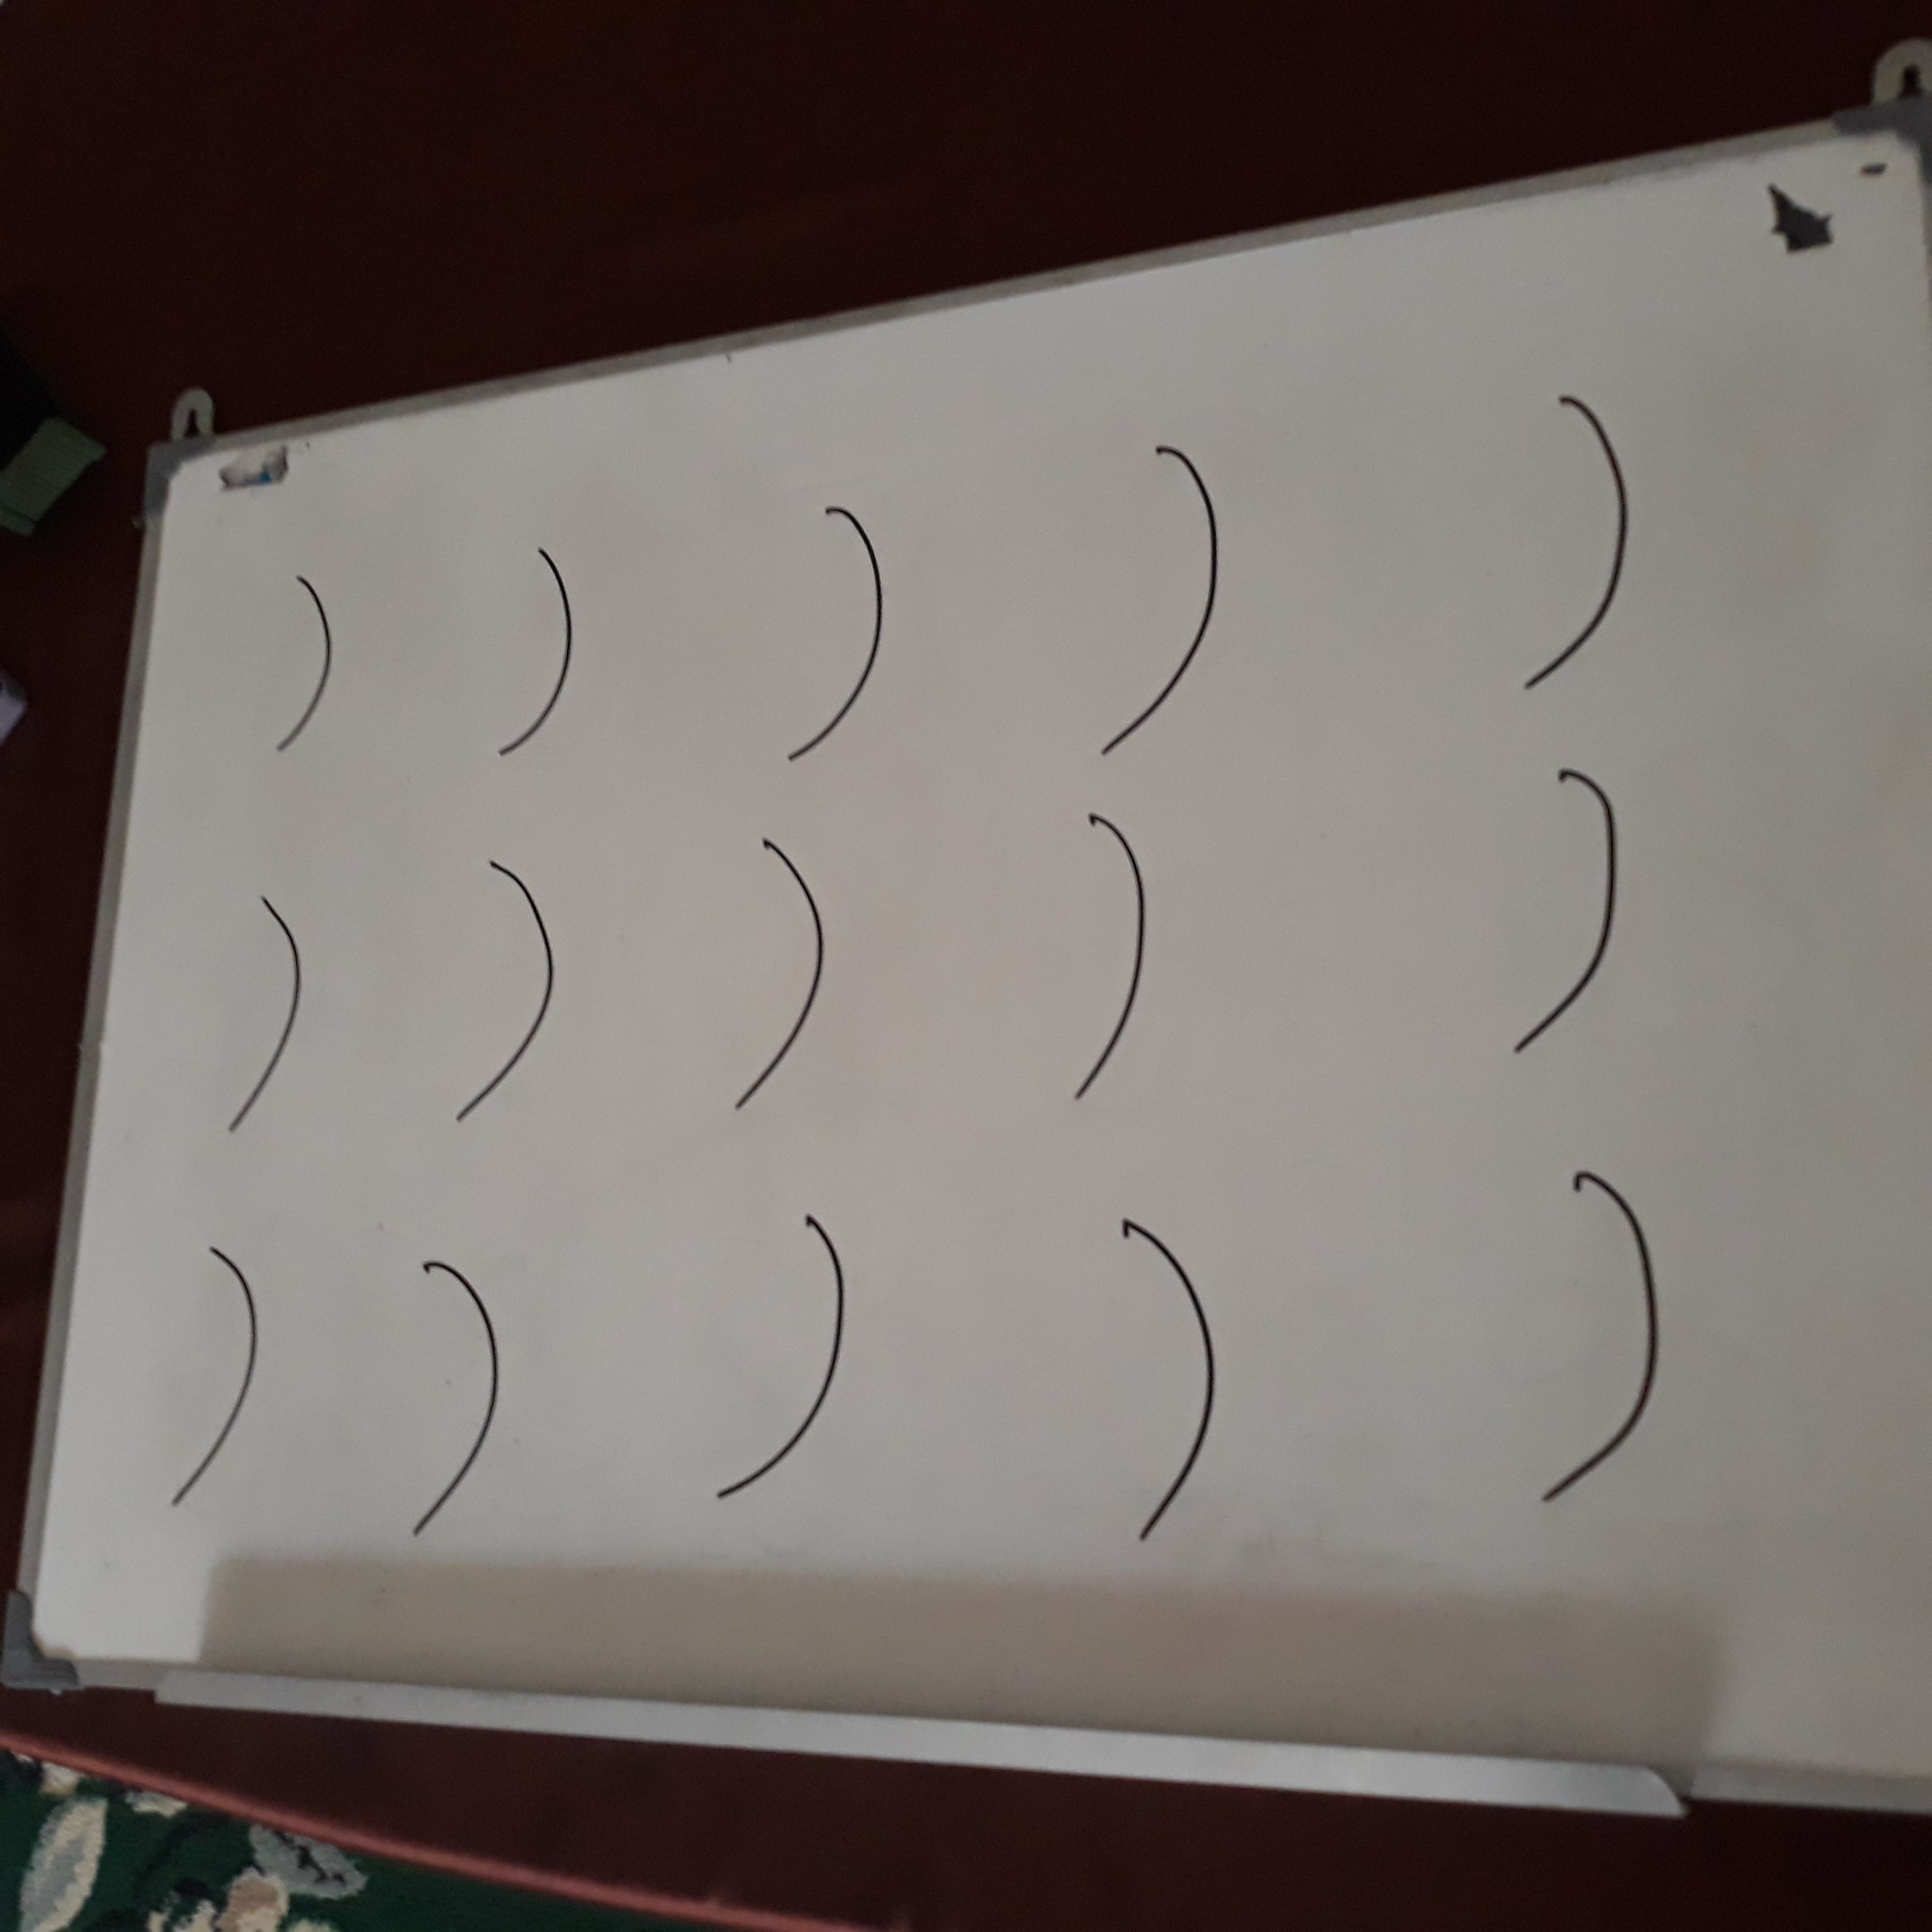closebracket: (1057, 1201, 1281, 1568), (1474, 372, 1706, 720), (1521, 1152, 1722, 1532), (1482, 761, 1679, 1072), (373, 1238, 554, 1566), (698, 1201, 880, 1518), (1085, 429, 1258, 763), (753, 493, 941, 791), (1033, 797, 1185, 1119), (149, 1231, 302, 1537), (436, 851, 578, 1152), (717, 828, 858, 1124), (208, 875, 345, 1150), (468, 532, 604, 784), (246, 553, 377, 767)
